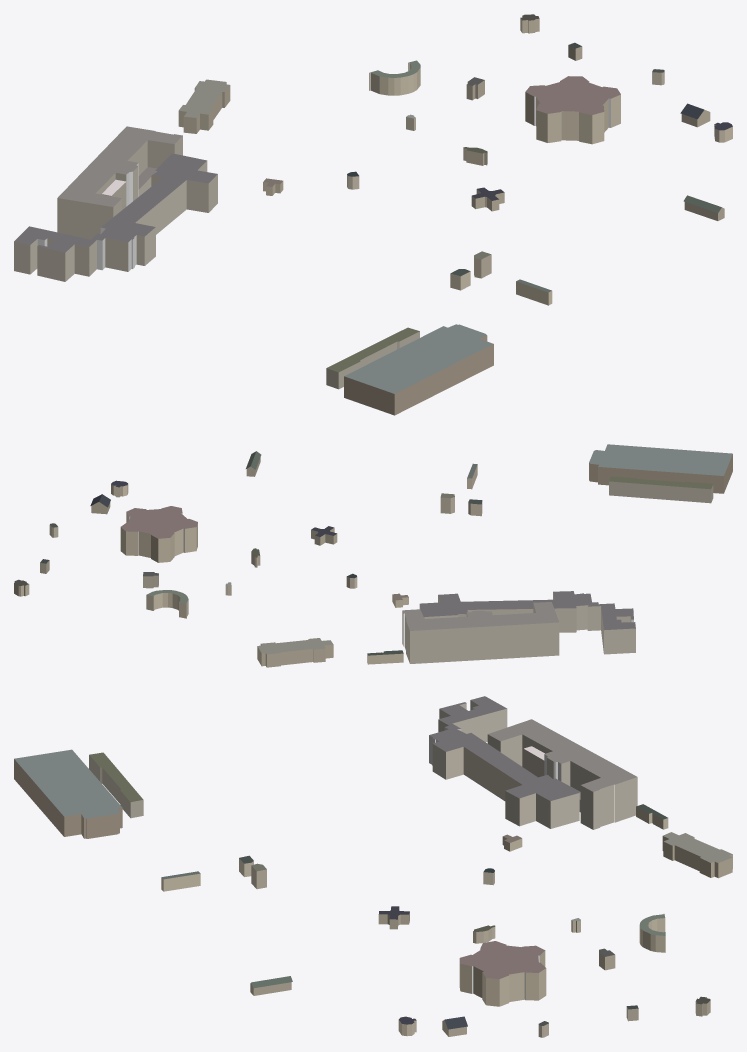
3 renders of one model, top to bottom at view 1: azimuth 30°, elevation 25°; view 2: azimuth 150°, elevation 25°; view 3: azimuth 270°, elevation 25°, orthographic. The views are drawn at different scales.
Parts seen in each view (by area): view 1: tuile; view 2: tuile; view 3: tuile.
Boxes of the visible parts, bbox=[...] form: tuile: bbox=[14, 14, 732, 415]; tuile: bbox=[14, 444, 732, 667]; tuile: bbox=[14, 696, 732, 1037].
Size of the model in its own units: 280 by 16.53 by 271.
